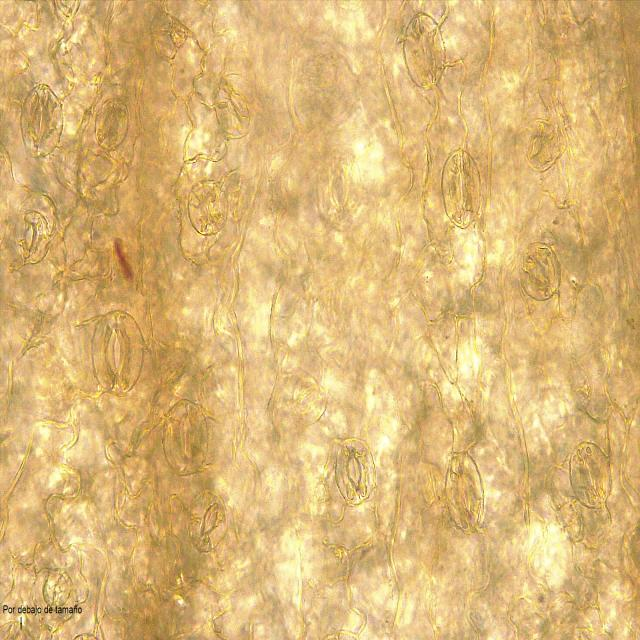Stomata: (89, 308, 146, 397), (313, 145, 366, 227), (160, 396, 211, 478), (443, 451, 487, 538), (19, 81, 66, 162), (401, 10, 448, 91), (440, 146, 483, 230), (334, 435, 378, 508), (213, 72, 260, 140), (568, 439, 613, 510), (185, 486, 230, 554), (519, 240, 563, 302), (186, 178, 230, 239), (521, 117, 562, 174), (12, 209, 52, 267), (290, 372, 330, 429), (92, 95, 130, 152)
